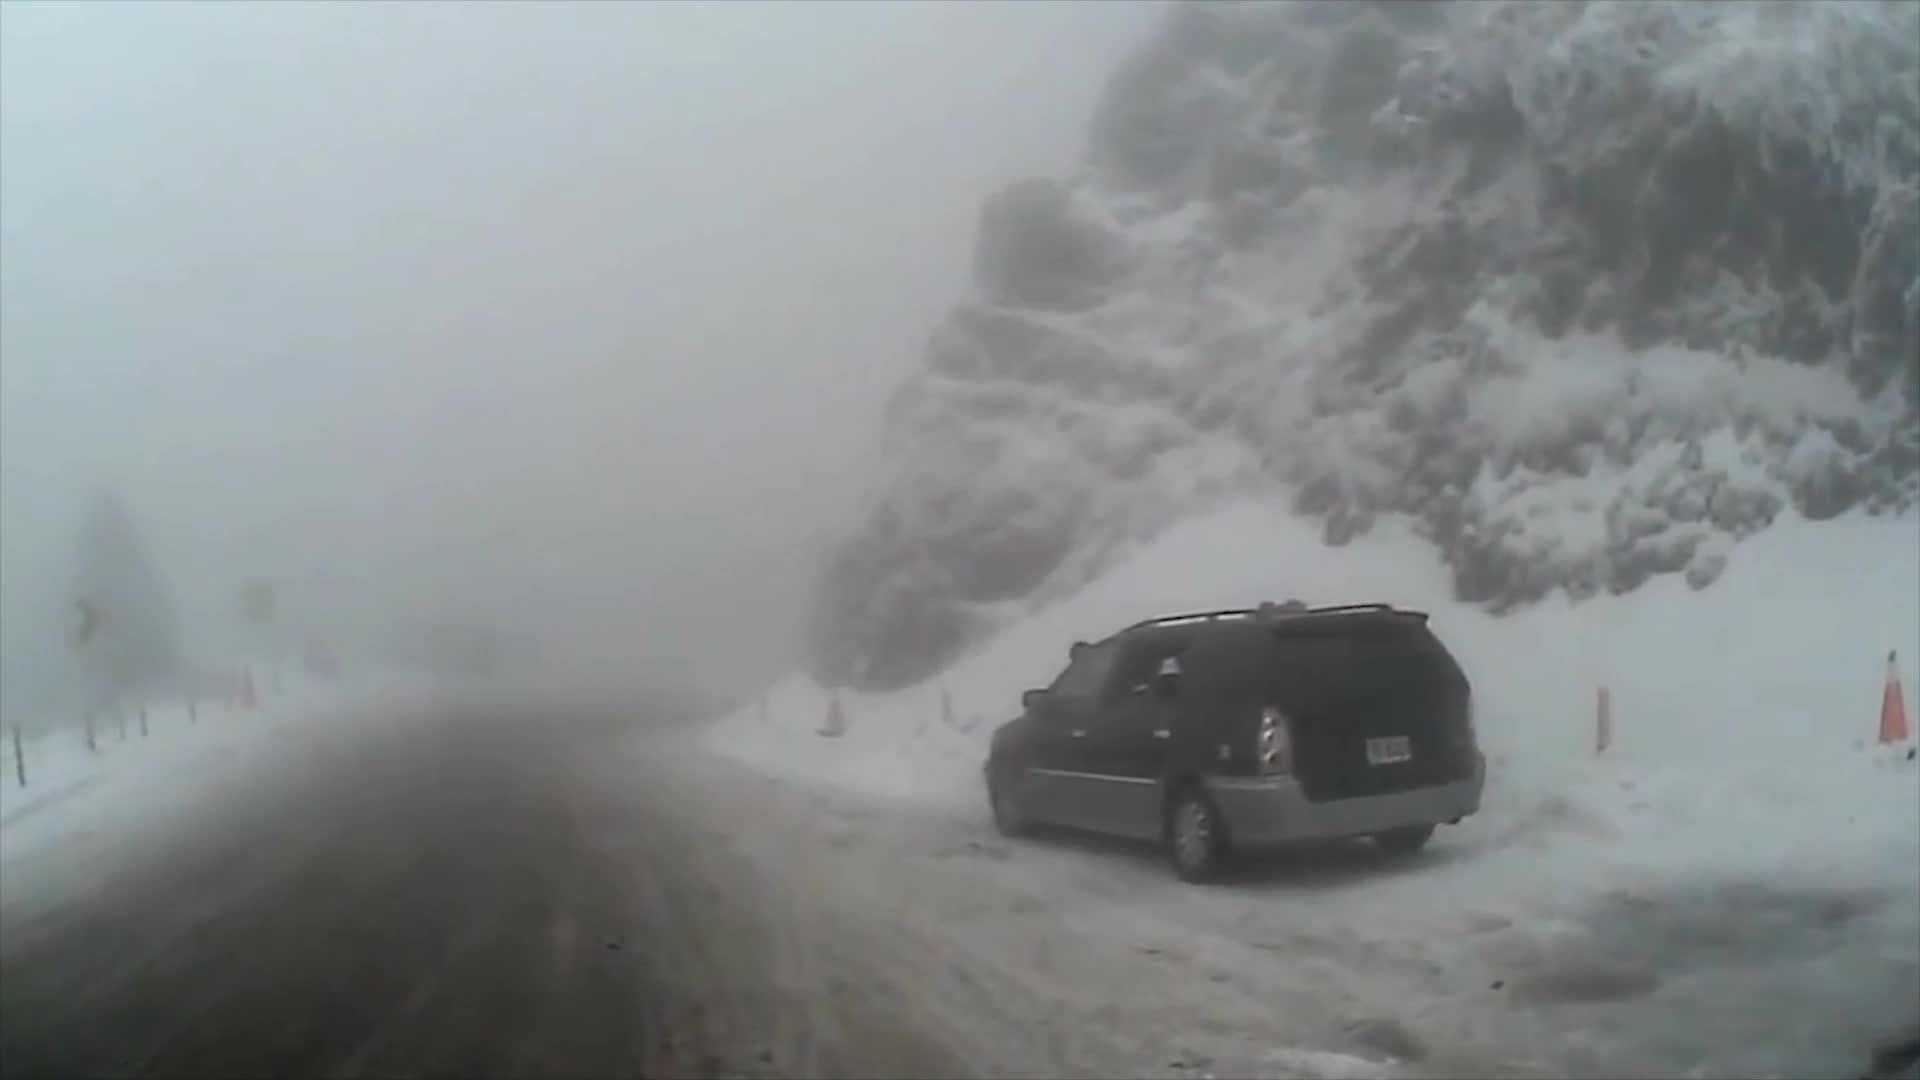vehicle: (982, 595, 1489, 882)
